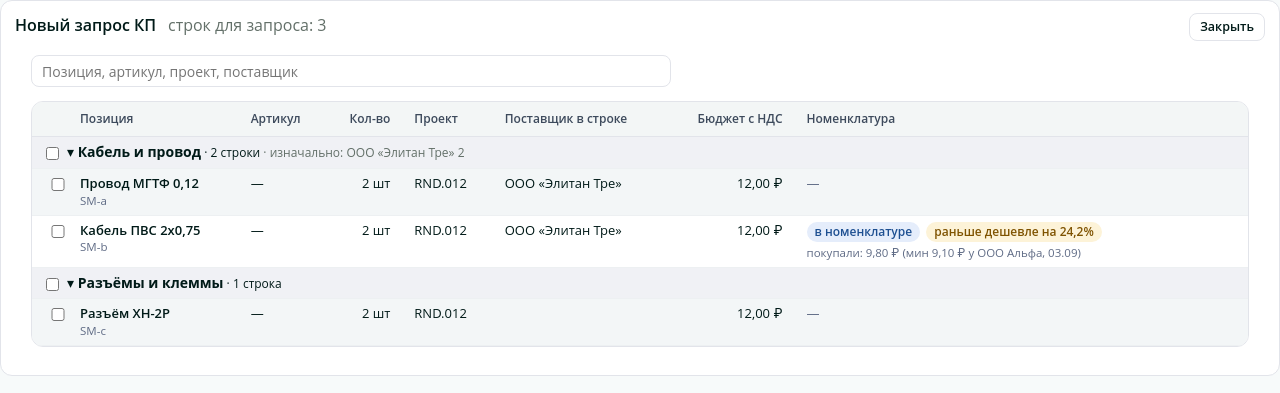
Scenario: renders the pool by category with the original suppliers in the group header
expect the cell "Кабель и провод" reads "▾ Кабель и провод · 2 строки · изначально: ООО «Элитан Тре» 2": met, box [32, 137, 1248, 169]
expect the cell "▾ Разъёмы и клеммы · 1 строка" is shown: met, box [32, 267, 1248, 299]
Step 1. Click the button "▾ Кабель и провод" → (134, 153), box [67, 143, 201, 162]
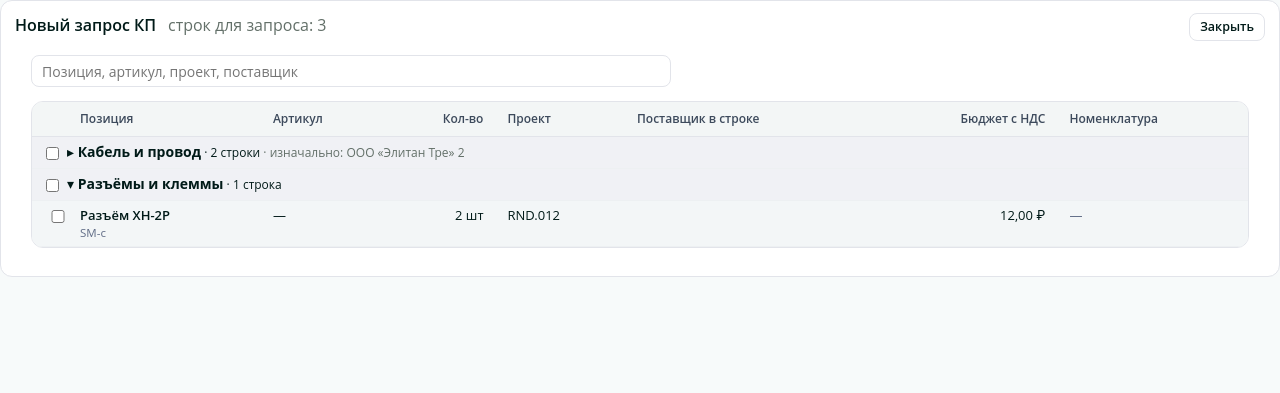
expect the text "Провод МГТФ 0,12" is gone: met
